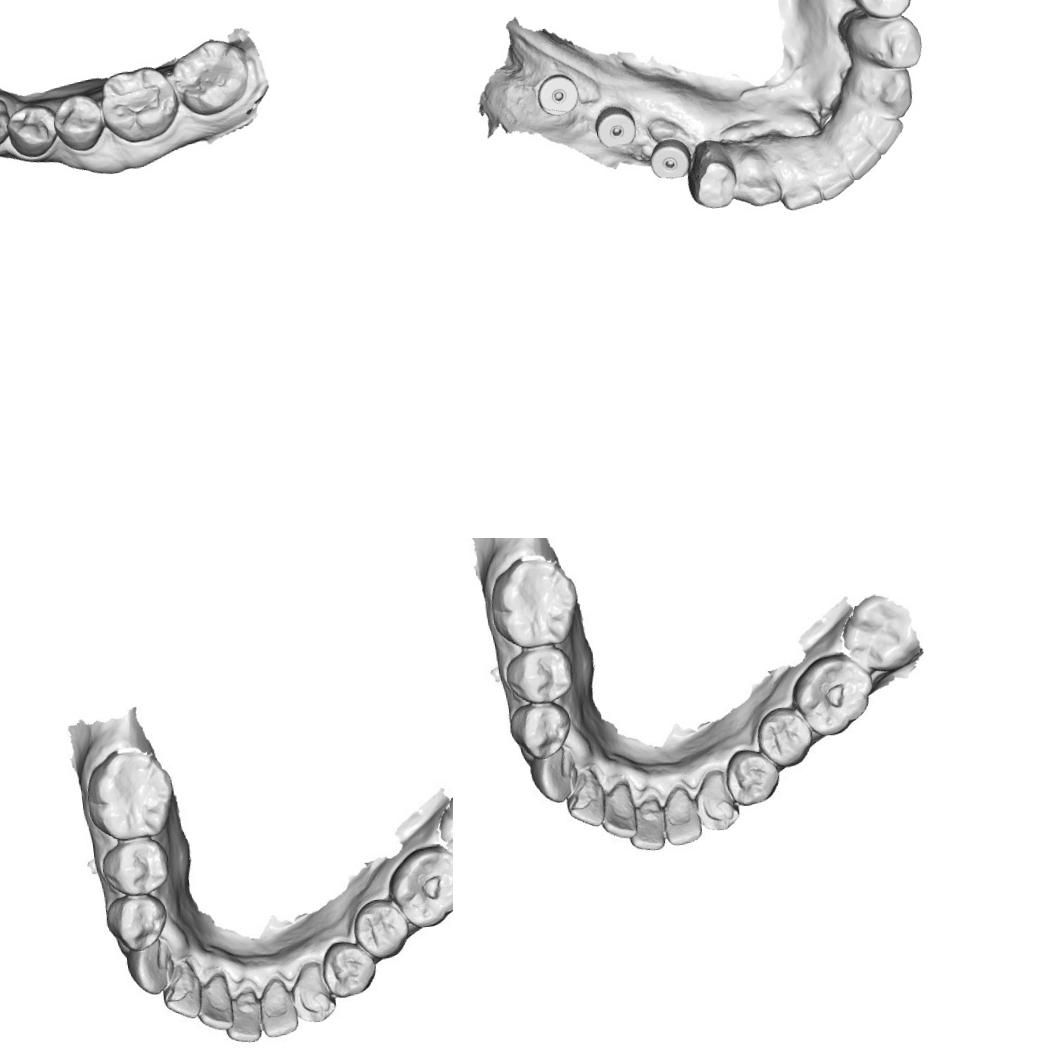canine: (120, 932, 178, 1002), (730, 139, 780, 212), (691, 764, 743, 834), (287, 958, 340, 1026), (862, 60, 916, 118), (529, 747, 580, 805), (0, 95, 13, 152)
implant: (534, 72, 579, 120), (592, 104, 634, 150), (650, 139, 690, 180)
incisor: (654, 786, 705, 851), (256, 980, 306, 1040), (560, 771, 609, 832), (595, 779, 641, 842), (160, 963, 206, 1022), (625, 790, 666, 854), (220, 988, 265, 1044), (839, 134, 884, 184), (193, 980, 235, 1032), (862, 112, 908, 157), (778, 172, 822, 214), (815, 157, 855, 200)
molar: (485, 550, 583, 654), (83, 742, 178, 846), (785, 648, 878, 741), (832, 586, 922, 678), (96, 62, 184, 147), (168, 34, 255, 119), (383, 840, 453, 934), (431, 780, 453, 869)
premolar: (844, 4, 926, 74), (499, 642, 578, 710), (97, 834, 170, 902), (506, 696, 574, 764), (104, 886, 168, 955), (754, 702, 816, 772), (348, 894, 410, 962), (720, 744, 784, 809), (319, 937, 379, 1003), (686, 142, 740, 214), (49, 90, 107, 156), (2, 101, 62, 161), (842, 0, 915, 22)
